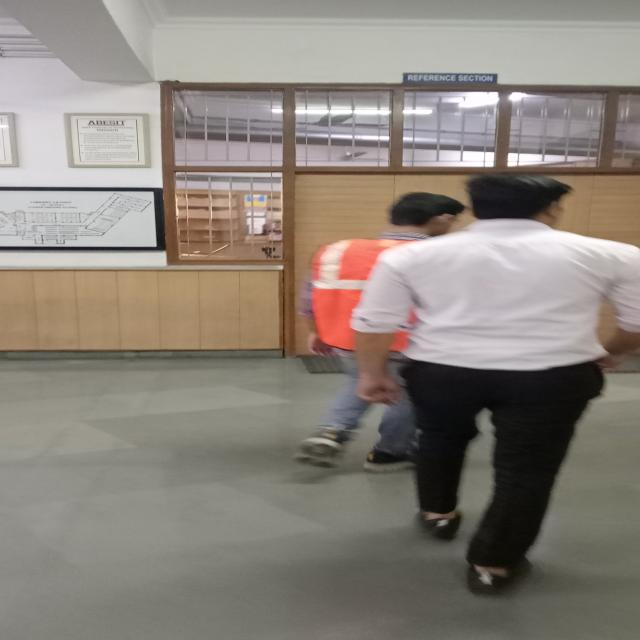unsafe: (376, 173, 634, 598)
